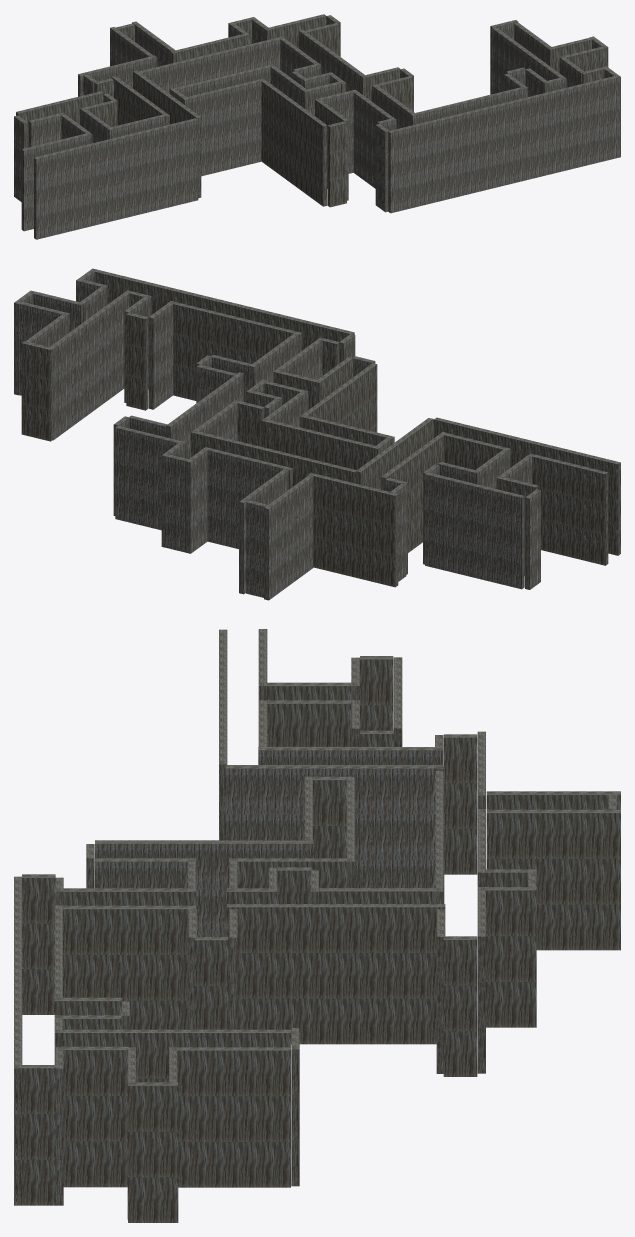
The model's file is tembok-patrick.glb.
The picture shows the model from 3 angles, top to bottom: view 1: azimuth 30°, elevation 25°; view 2: azimuth 150°, elevation 25°; view 3: azimuth 270°, elevation 25°; orthographic projection. The views are drawn at different scales.
Parts seen in each view (by area): view 1: Tembok.004, Tembok.095, Tembok.065, Tembok.083, Tembok.088, Tembok.014, Tembok.007, Tembok.096, Tembok.068, Tembok.061, Tembok.063, Tembok.064 (+30 smaller); view 2: Tembok.073, Tembok.089, Tembok.007, Tembok.096, Tembok.100, Tembok.094, Tembok.009, Tembok.090, Tembok.004, Tembok.095, Tembok.082, Tembok.010 (+38 smaller); view 3: Tembok.061, Tembok.063, Tembok.008, Tembok.093, Tembok.015, Tembok.011, Tembok.002, Tembok.017, Tembok.065, Tembok.007, Tembok.092, Tembok.086 (+30 smaller).
Part boxes in pixels (x1,y1,x2,y2): Tembok.004: (388, 75, 620, 213); Tembok.095: (34, 118, 198, 239); Tembok.065: (259, 78, 327, 206); Tembok.083: (182, 79, 261, 176); Tembok.088: (139, 36, 284, 93); Tembok.014: (351, 89, 393, 188); Tembok.007: (493, 28, 565, 93); Tembok.096: (21, 132, 92, 231); Tembok.068: (327, 121, 346, 207); Tembok.061: (299, 30, 367, 97); Tembok.063: (133, 70, 201, 198); Tembok.064: (111, 76, 169, 125); Tembok.073: (425, 472, 524, 589); Tembok.089: (308, 472, 398, 587); Tembok.007: (50, 290, 129, 440); Tembok.096: (528, 453, 608, 565); Tembok.100: (173, 302, 302, 400); Tembok.094: (264, 475, 313, 600); Tembok.009: (115, 425, 185, 530); Tembok.090: (203, 447, 292, 548); Tembok.004: (90, 268, 354, 350); Tembok.095: (433, 417, 620, 555); Tembok.082: (261, 418, 380, 469); Tembok.010: (21, 341, 53, 441); Tembok.061: (227, 904, 445, 1044); Tembok.063: (225, 765, 444, 903); Tembok.008: (173, 1047, 290, 1187); Tembok.093: (486, 809, 620, 950); Tembok.015: (61, 905, 195, 1029); Tembok.011: (61, 1046, 128, 1187); Tembok.002: (128, 1082, 178, 1222); Tembok.017: (486, 887, 536, 1027); Tembok.065: (95, 840, 313, 936); Tembok.007: (56, 1029, 290, 1082); Tembok.092: (443, 936, 477, 1076); Tembok.086: (443, 734, 477, 874).
Bounding box in the file's own units: 64 × 9.16 × 36.13.
Materials: 63 (63 with a texture image).
